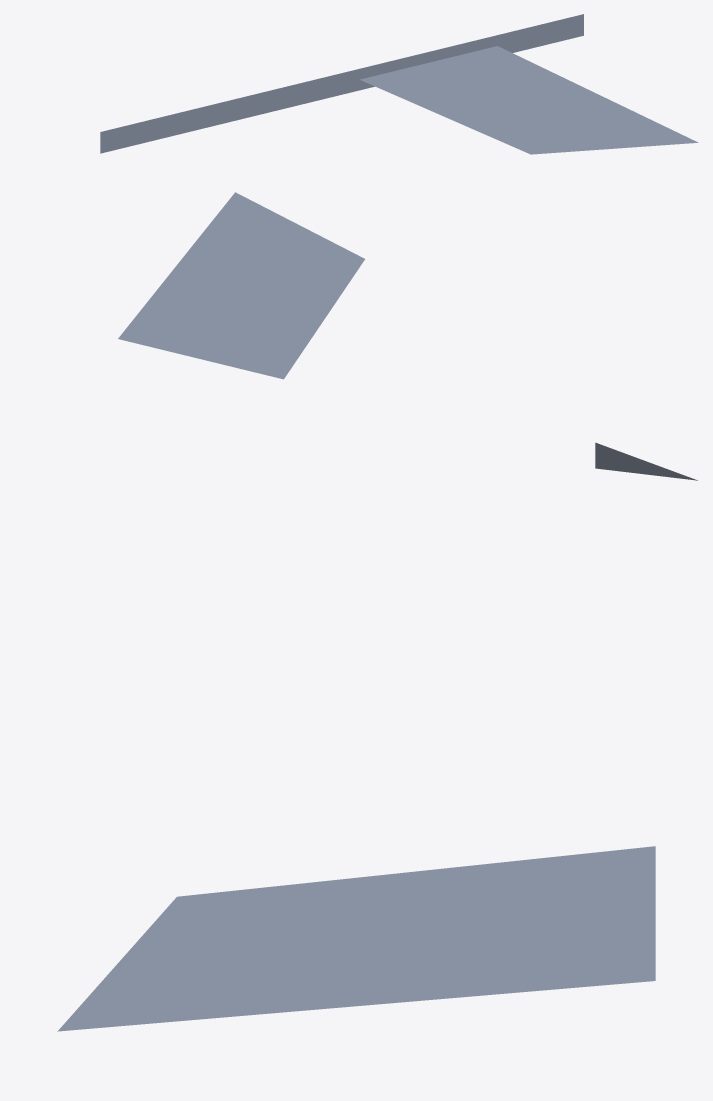
Rendered from jet.glb.
3 renders of one model, top to bottom at view 1: azimuth 30°, elevation 25°; view 2: azimuth 150°, elevation 25°; view 3: azimuth 270°, elevation 25°, orthographic. The views are drawn at different scales.
Parts seen in each view (by area): view 1: jet_node; view 2: jet_node; view 3: jet_node.
Boxes of the visible parts, x1,y1,x2,y2 form: jet_node: (100,14,698,154); jet_node: (118,192,697,480); jet_node: (57,846,655,1031).
Size of the model in its own units: 3.3 by 0.12 by 1.5.
